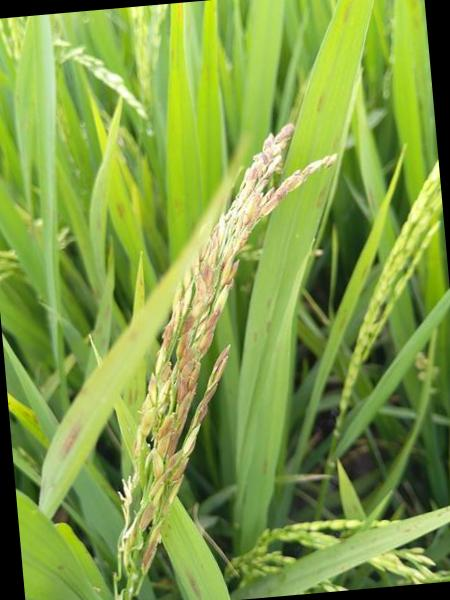Leaf Streak: (63, 426, 83, 459)
Panicle Blight: (120, 124, 337, 600)
